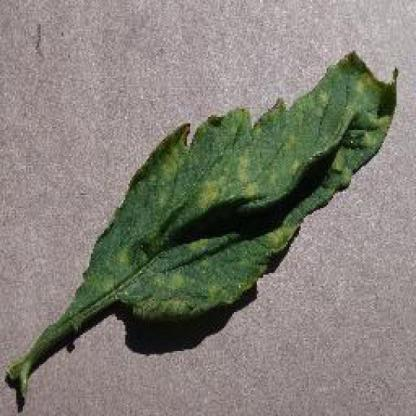Tomato_Leaf_Mold: (97, 50, 398, 313)
